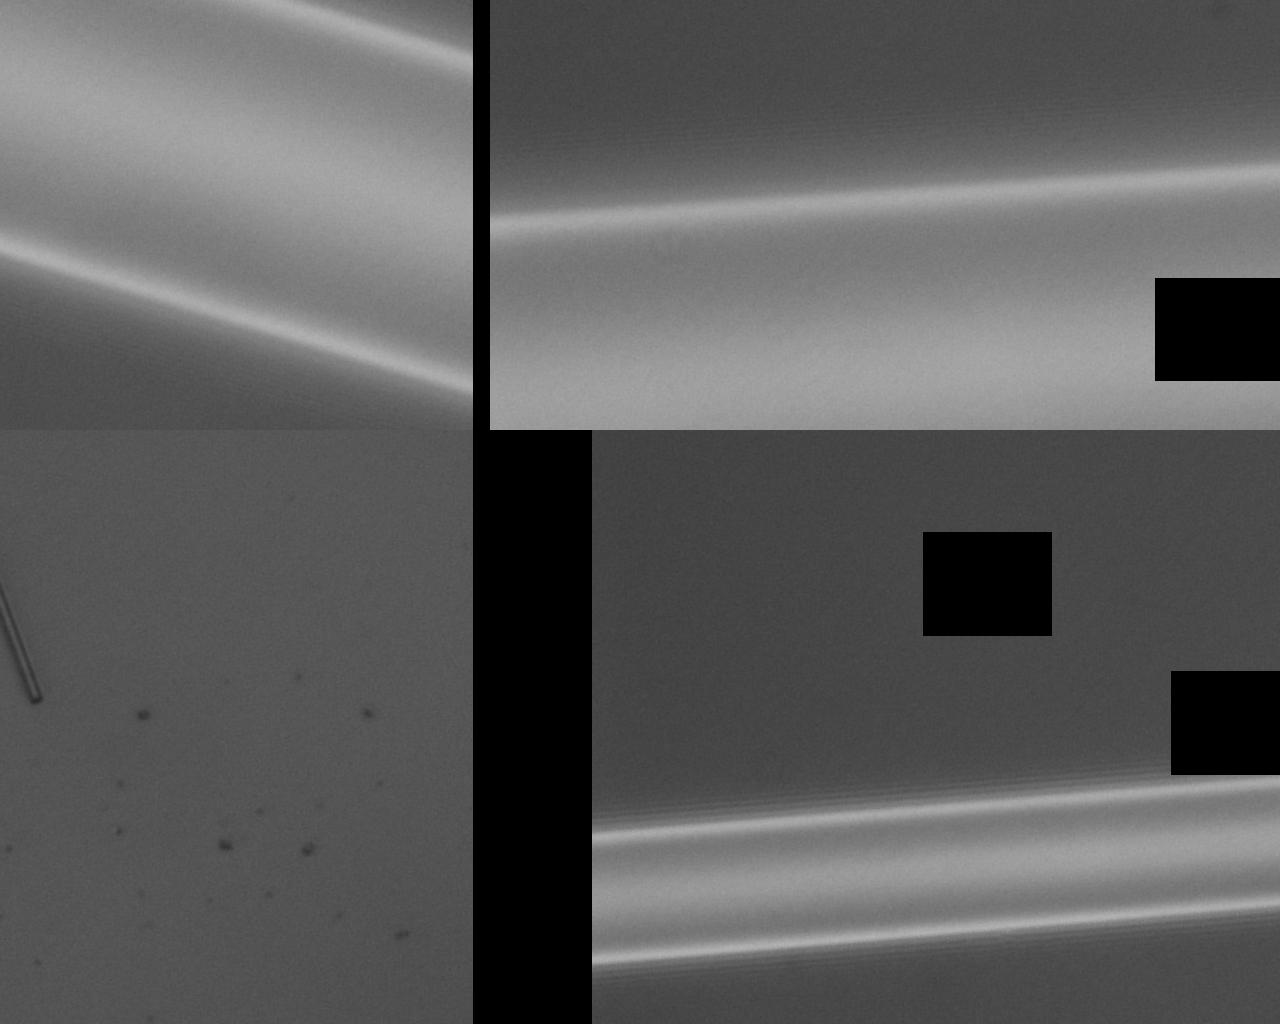fiber: (527, 0, 867, 757)
